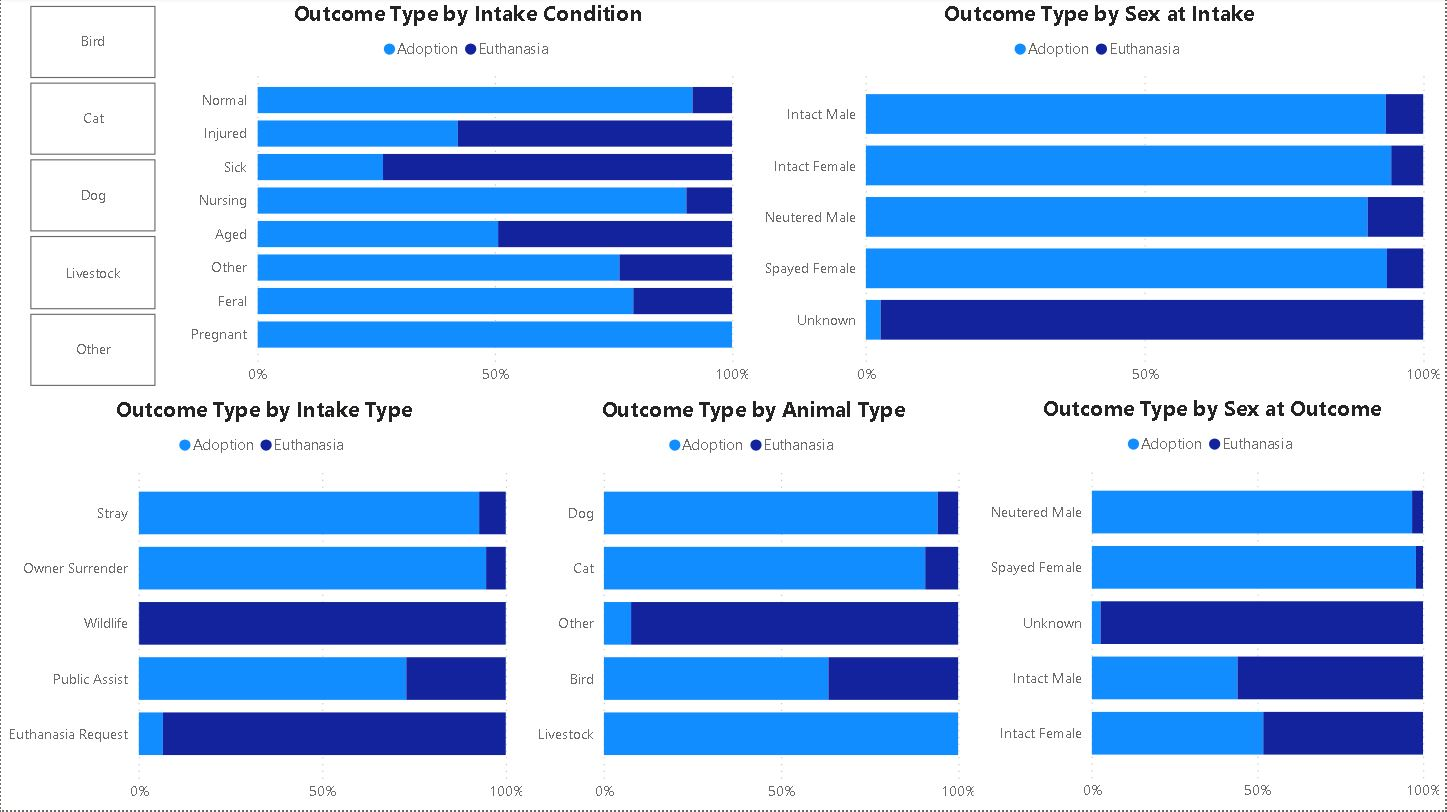

This screenshot's page, from the dashboard's own definition file:
{"tool":"powerbi","page":{"name":"Outcome Type","canvas":[1280,720],"ordinal":3},"visuals":[{"type":"hundredPercentStackedBarChart","title":"Outcome Type by Animal Type","fields":{"Category":["AnimalShelter.Animal Type"],"Y":["CountNonNull(AnimalShelter.Animal ID)"],"Series":["AnimalShelter.Outcome Type"]},"box":[466.7,350.8,401.5,369.4],"z":0},{"type":"hundredPercentStackedBarChart","title":"Outcome Type by Intake Condition","fields":{"Series":["AnimalShelter.Outcome Type"],"Category":["AnimalShelter.Intake Condition"],"Y":["CountNonNull(AnimalShelter.Animal ID)"]},"box":[161.4,0,506,350.8],"z":1000},{"type":"hundredPercentStackedBarChart","title":"Outcome Type by Intake Type","fields":{"Category":["AnimalShelter.Intake Type"],"Y":["CountNonNull(AnimalShelter.Animal ID)"],"Series":["AnimalShelter.Outcome Type"]},"box":[0,350.8,466.7,369.4],"z":2000},{"type":"hundredPercentStackedBarChart","title":"Outcome Type by Sex at Intake","fields":{"Y":["CountNonNull(AnimalShelter.Animal ID)"],"Series":["AnimalShelter.Outcome Type"],"Category":["AnimalShelter.Sex upon Intake"]},"box":[667.4,0,612.6,350.8],"z":3000},{"type":"hundredPercentStackedBarChart","title":"Outcome Type by Sex at Outcome","fields":{"Y":["CountNonNull(AnimalShelter.Animal ID)"],"Series":["AnimalShelter.Outcome Type"],"Category":["AnimalShelter.Sex upon Outcome"]},"box":[868.1,350.6,411.9,369.9],"z":4000},{"type":"slicer","fields":{"Values":["AnimalShelter.Animal Type"]},"box":[0,0,161.4,350.8],"z":4004}]}

Visuals, with their boxes in screenshot pixels (x1, y1, x2, y2), scaled from the page's 1280x720 canvas onto the 1447x812 screenshot:
"Outcome Type by Animal Type" hundredPercentStackedBarChart: bbox=(528, 396, 981, 811)
"Outcome Type by Intake Condition" hundredPercentStackedBarChart: bbox=(182, 0, 754, 396)
"Outcome Type by Intake Type" hundredPercentStackedBarChart: bbox=(0, 396, 528, 811)
"Outcome Type by Sex at Intake" hundredPercentStackedBarChart: bbox=(754, 0, 1446, 396)
"Outcome Type by Sex at Outcome" hundredPercentStackedBarChart: bbox=(981, 395, 1446, 811)
slicer - AnimalShelter.Animal Type: bbox=(0, 0, 182, 396)
